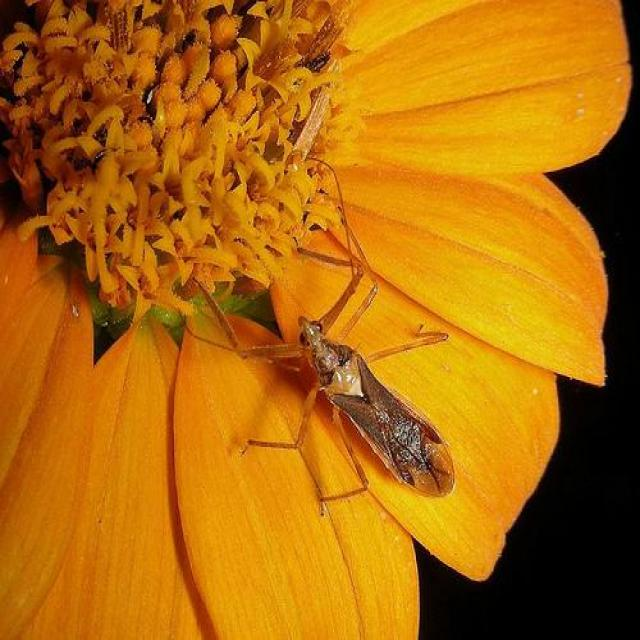Miridae-Adult-: (190, 146, 470, 522)
